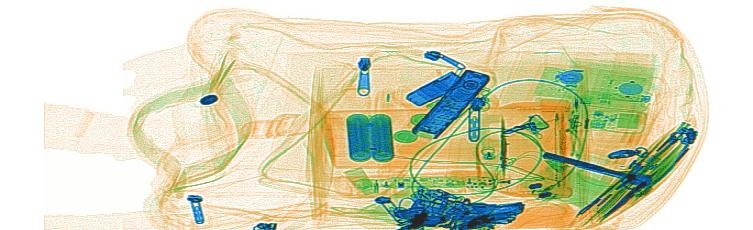USBFlashDisk: (404, 69, 466, 108)
battery: (344, 112, 394, 163)
